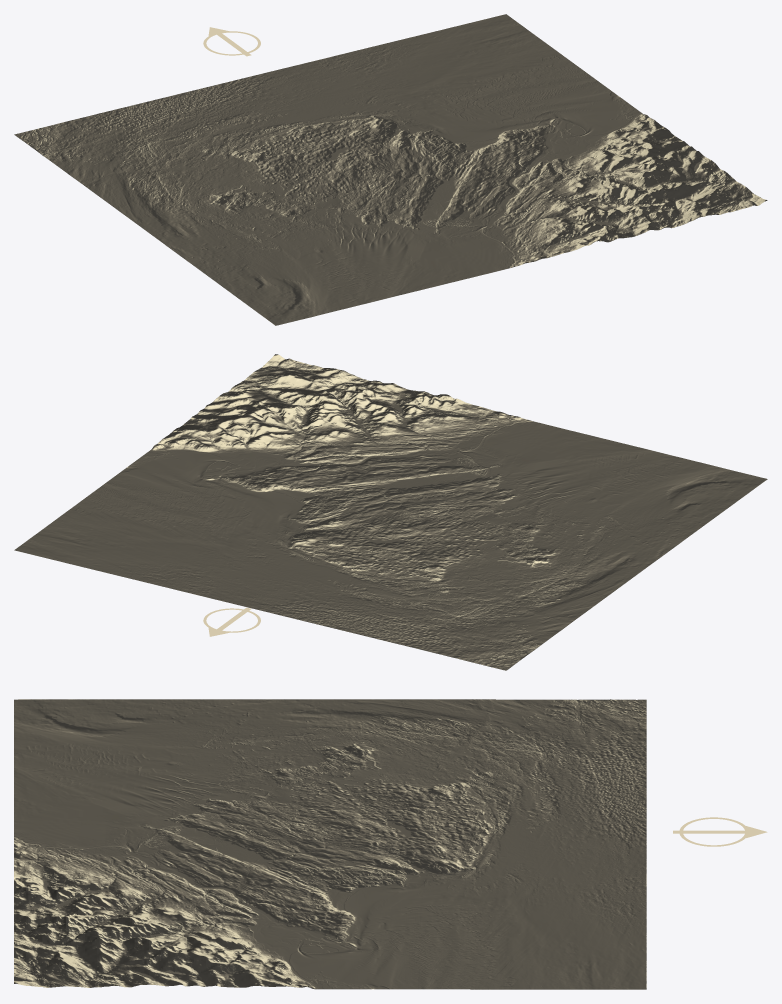
File: Anglesey_Archipelago_V3_HI1420.glb
The picture shows the model from 3 angles, top to bottom: view 1: azimuth 30°, elevation 25°; view 2: azimuth 150°, elevation 25°; view 3: azimuth 270°, elevation 25°; orthographic projection. The views are drawn at different scales.
Visible parts, largest first — view 1: Oddscape_Terrain_v221_GLB; view 2: Oddscape_Terrain_v221_GLB; view 3: Oddscape_Terrain_v221_GLB.
Part boxes in pixels (<box>): Oddscape_Terrain_v221_GLB: <box>14,14,767,325</box>; Oddscape_Terrain_v221_GLB: <box>14,354,767,670</box>; Oddscape_Terrain_v221_GLB: <box>14,699,767,989</box>.
Size of the model in its own units: 1.6 by 0.0333 by 1.76.
2 materials, 1 textured.
